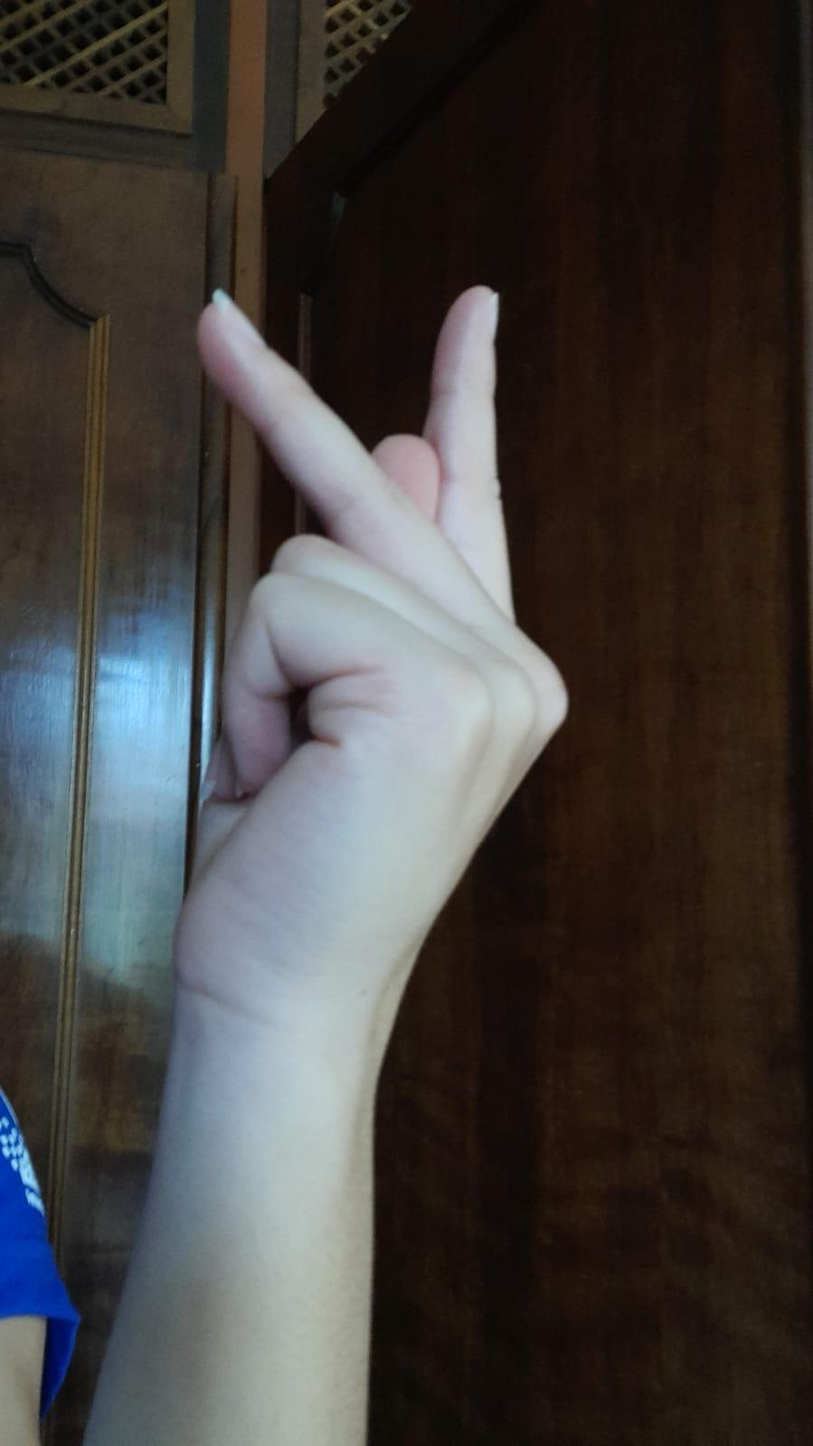K: (167, 222, 588, 1017)
